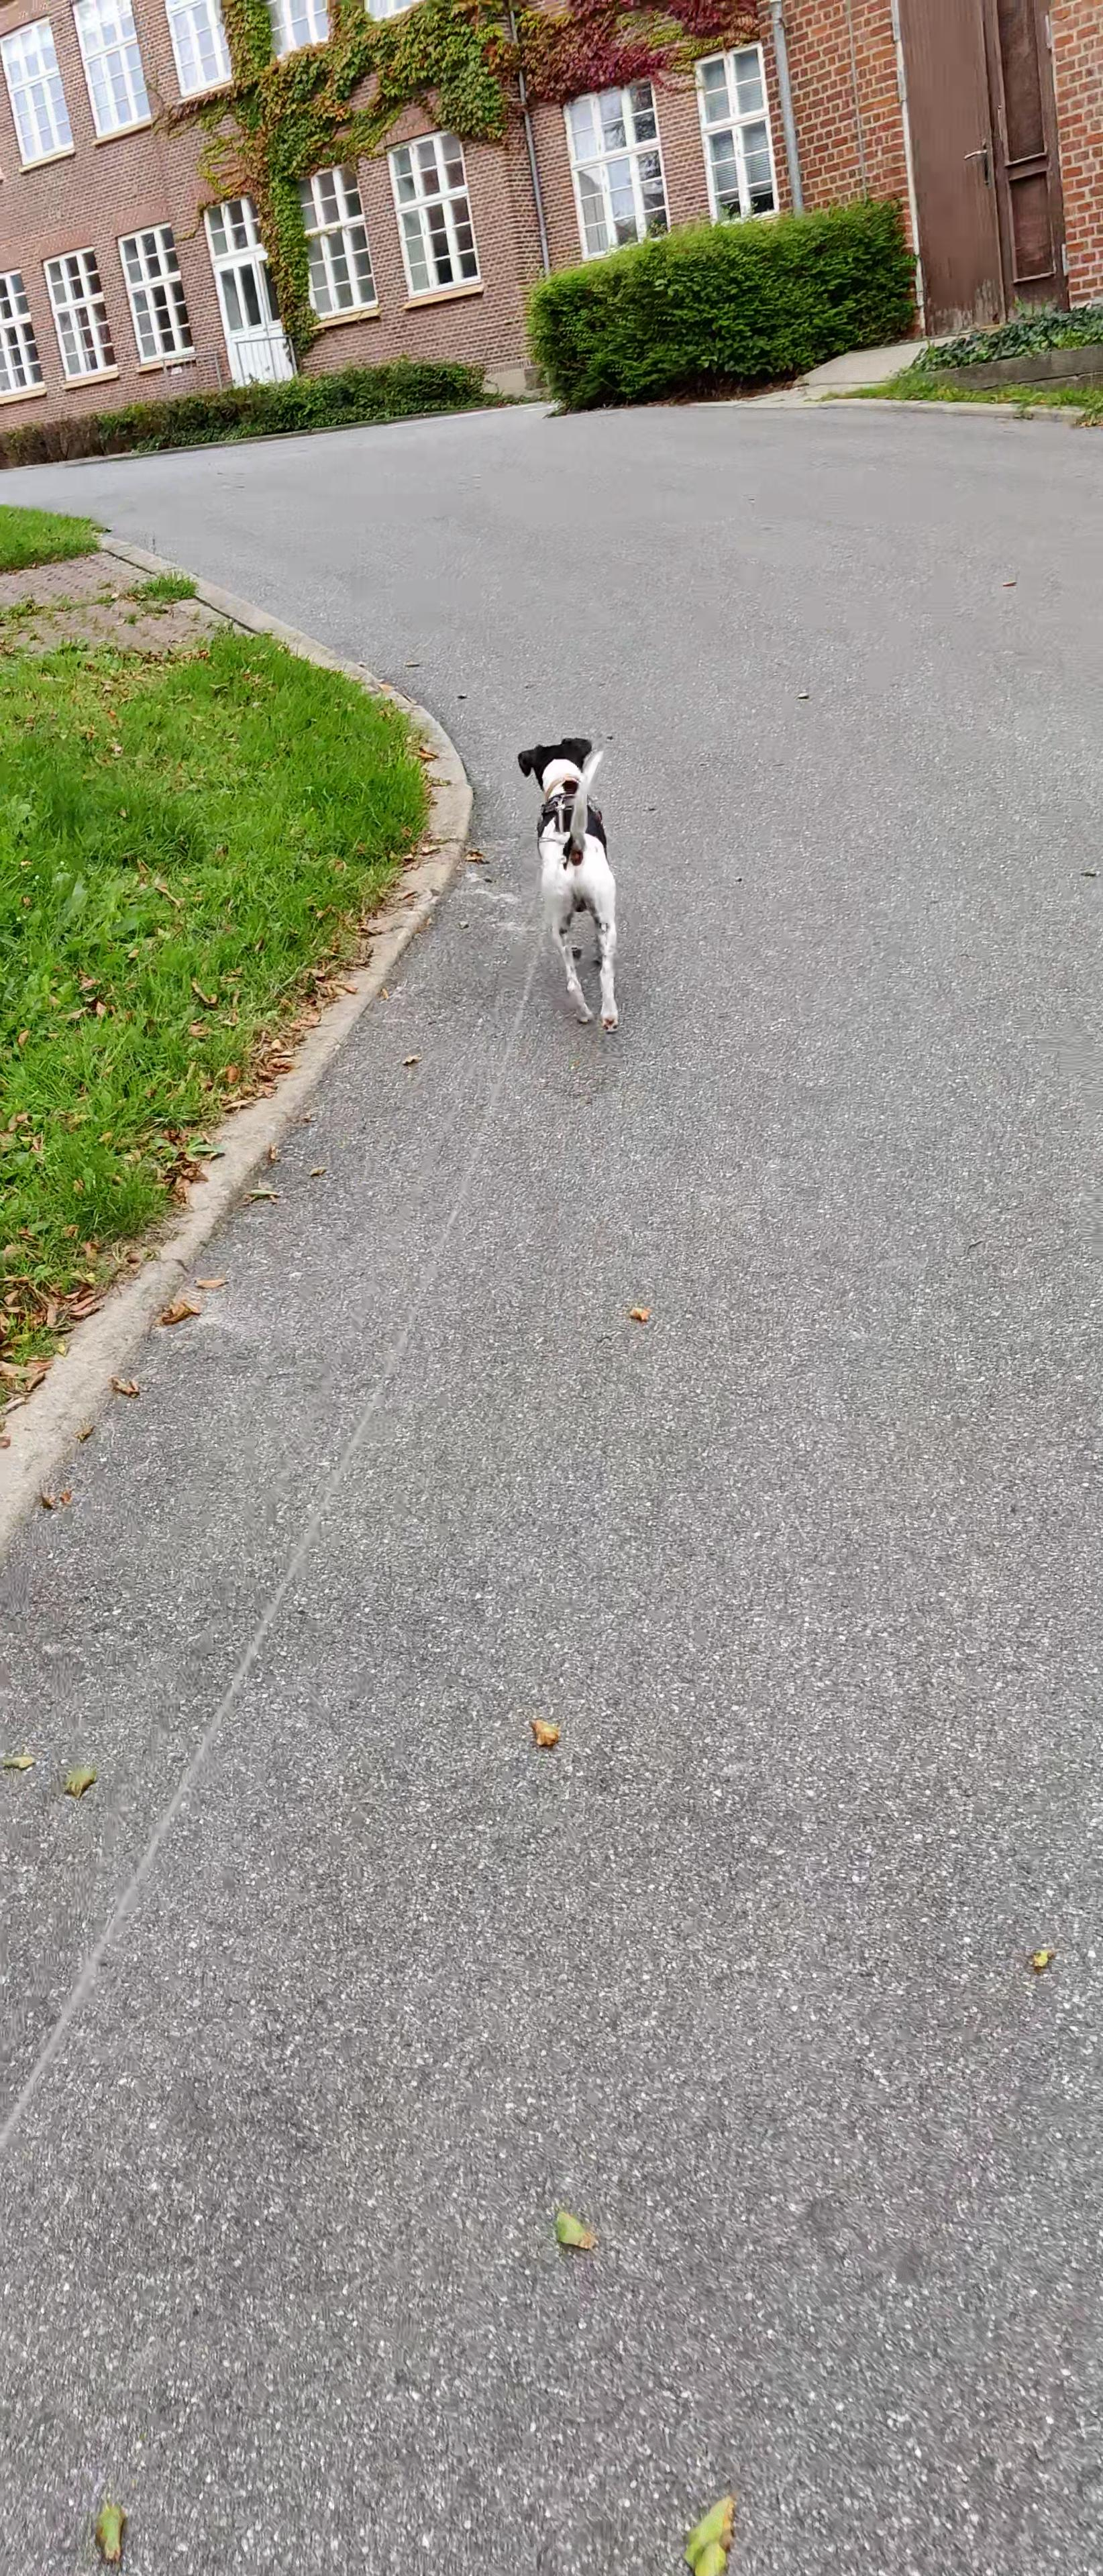Dog: (503, 720, 648, 1058)
